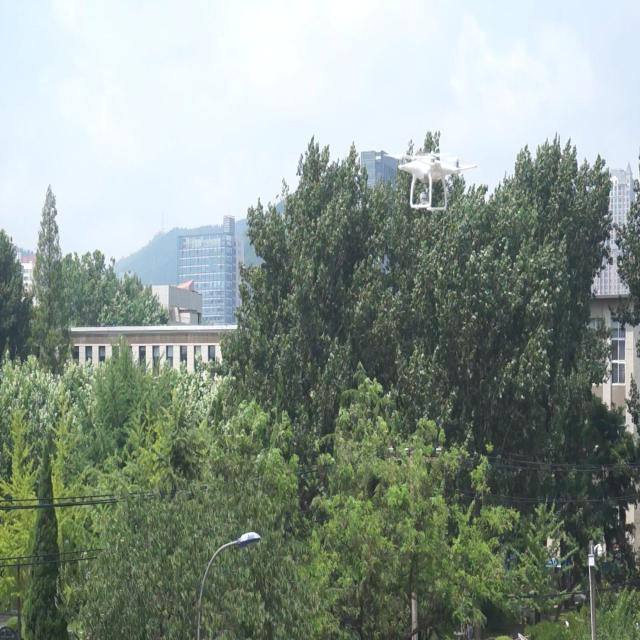drone: (394, 144, 479, 217)
